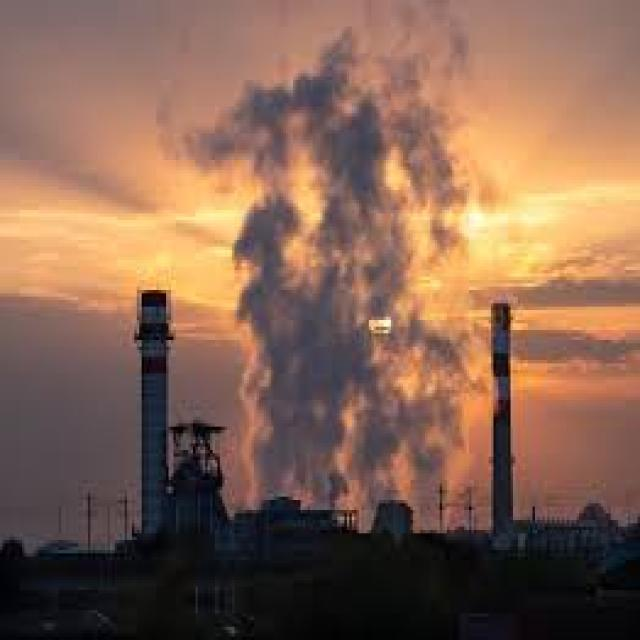Smoke: (152, 0, 516, 527)
